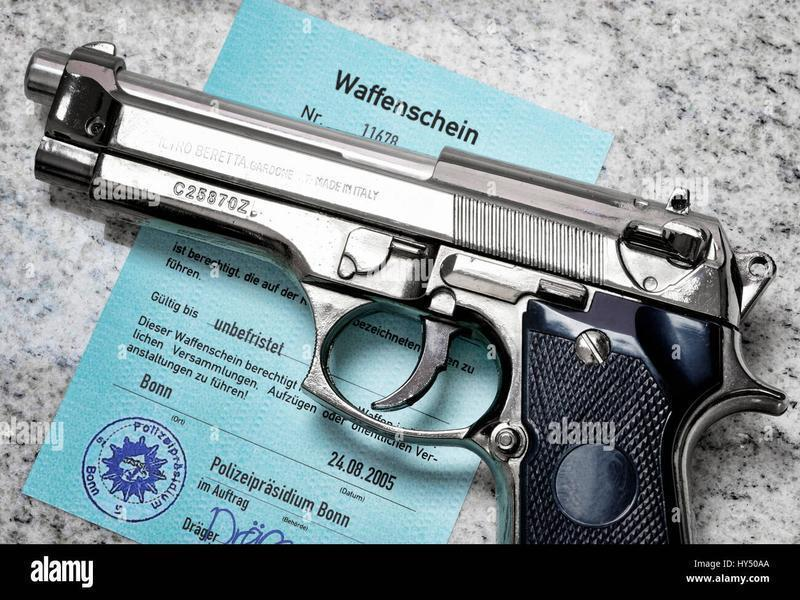GUN: (19, 39, 789, 544)
